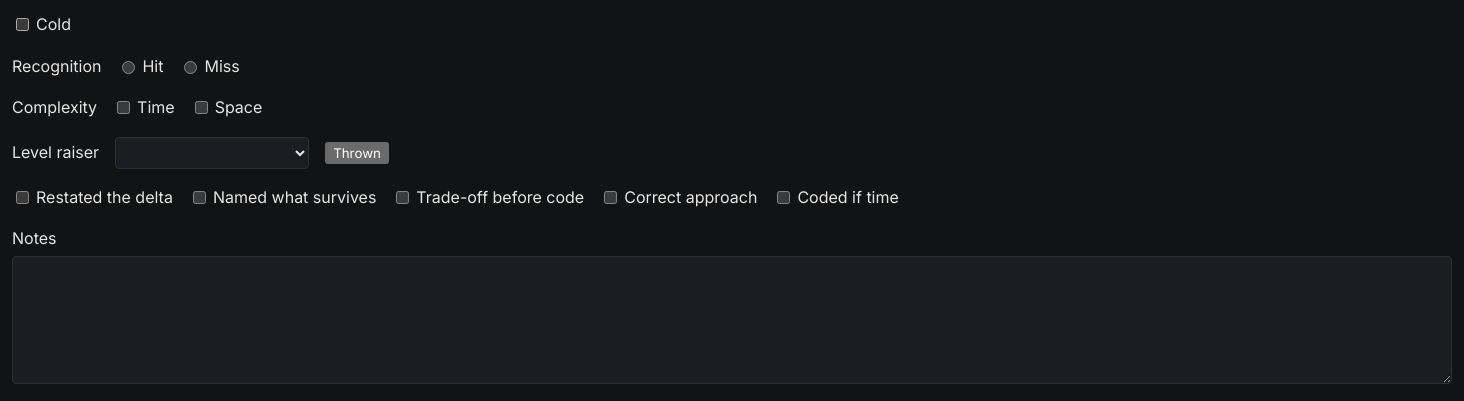
Test: InterviewNotesComponent › the verdict mark follows the checkboxes: three others without the approach
Select "Stream / online" in the dropdown with class "interview-notes__move" at (212, 153), box [115, 137, 309, 169]
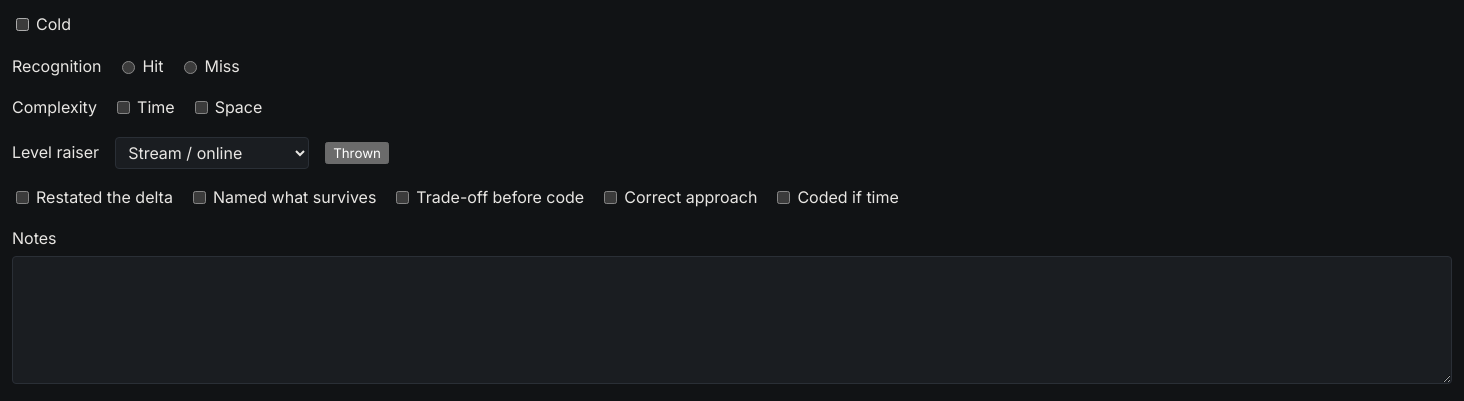
Click the checkbox with class "interview-notes__check-restated" at (22, 198), box [16, 191, 29, 204]
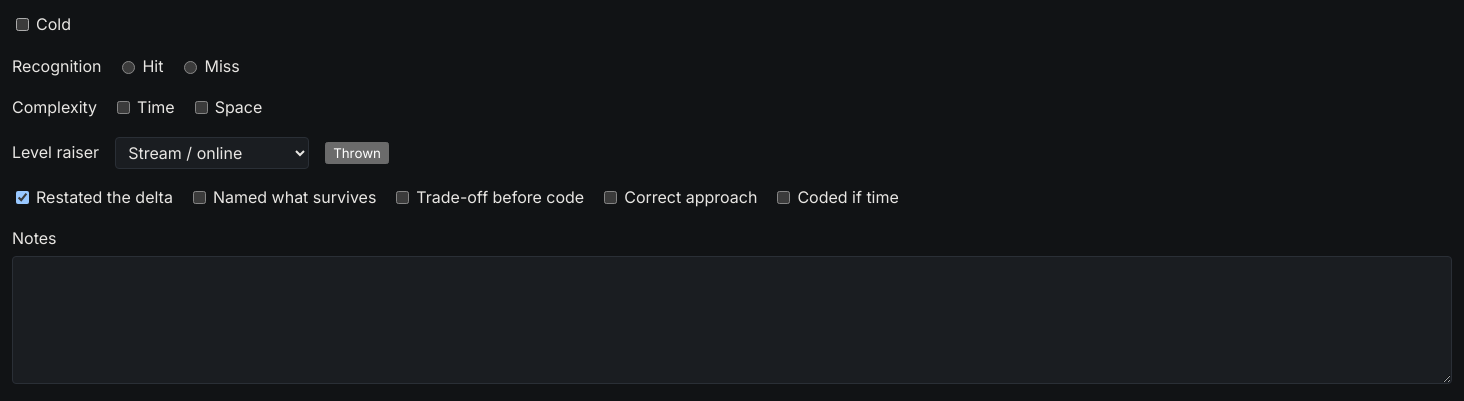
Click the checkbox with class "interview-notes__check-survives" at (199, 198), box [193, 191, 206, 204]
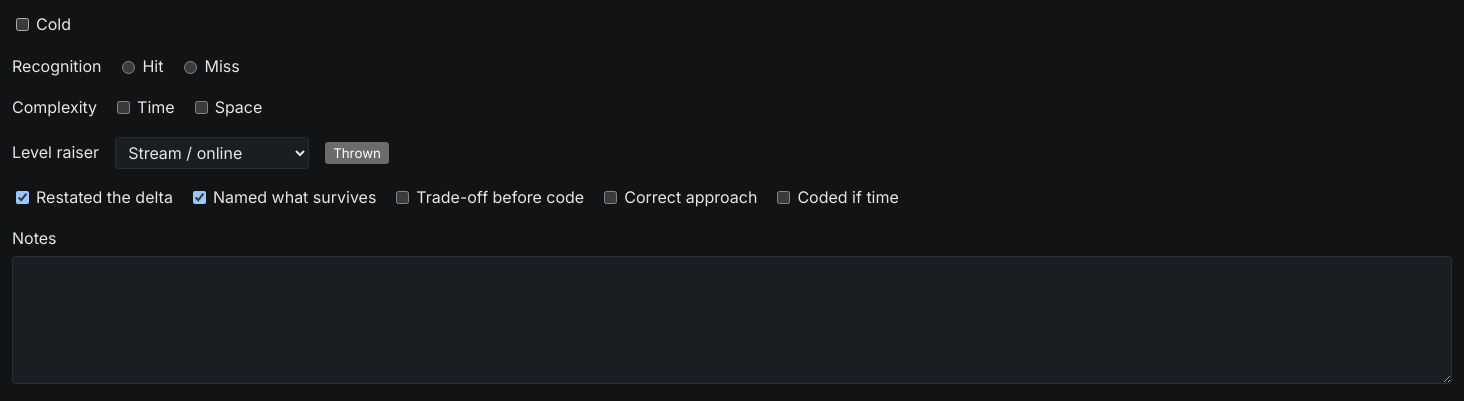
Click the checkbox with class "interview-notes__check-tradeoff" at (403, 198), box [396, 191, 409, 204]
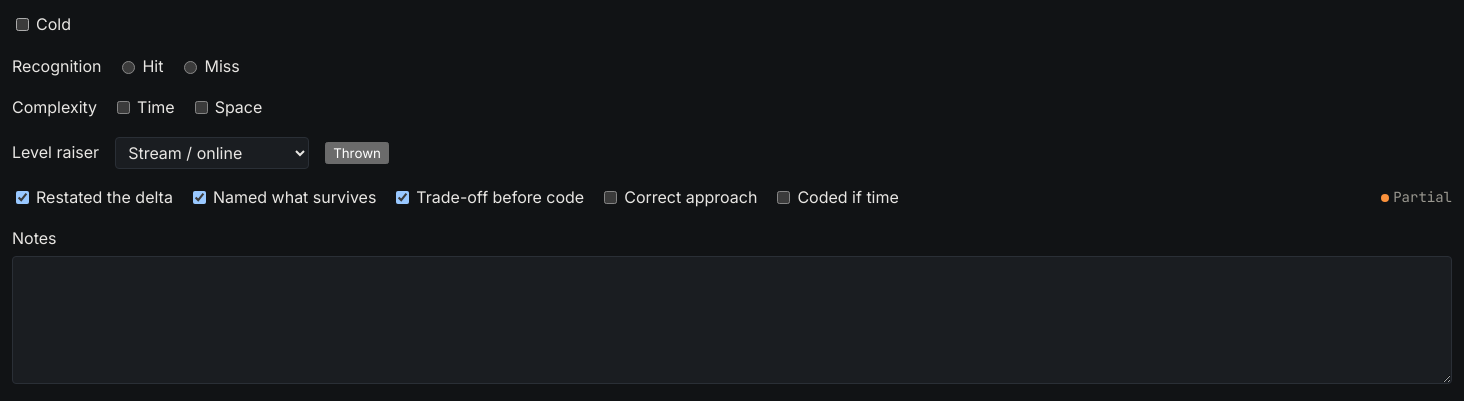
expect the element with class "interview-notes__verdict" reads "Partial": met, box [1393, 188, 1452, 206]
